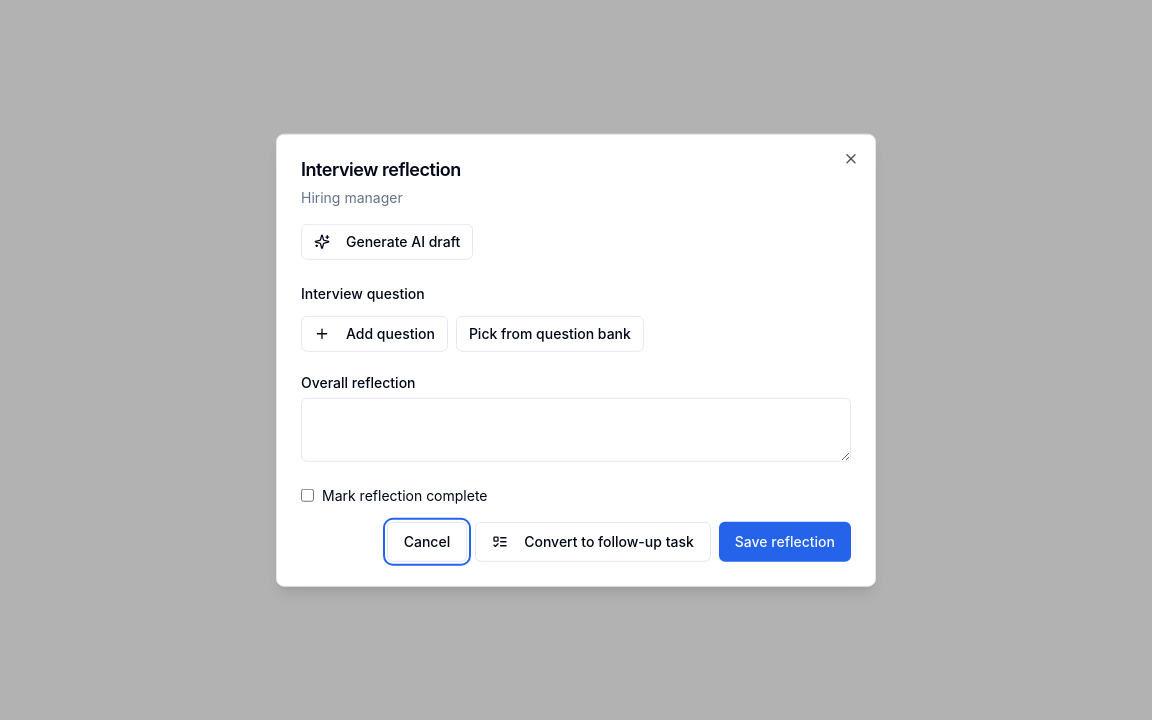
Scenario: InterviewReflectionDialog › shows the generation error honestly and retries
Click the button with test id "interview-reflection-ai-generate" at (387, 241), box [301, 223, 473, 259]
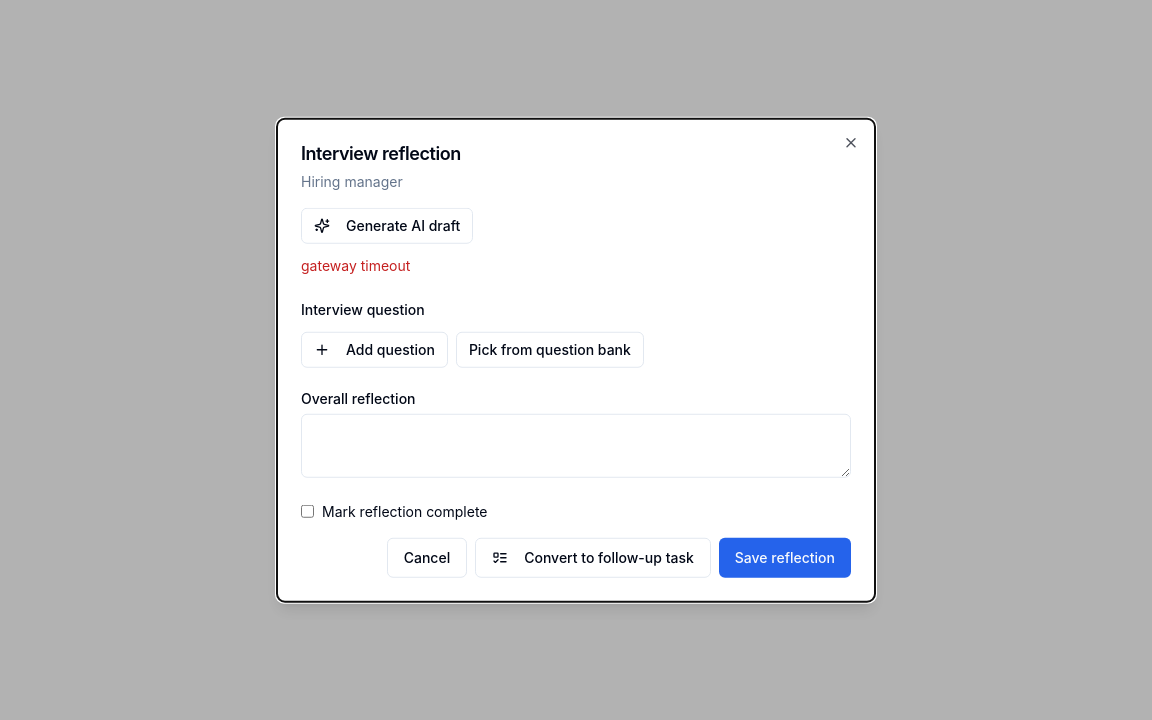
Expected: the text with test id "interview-reflection-ai-error" reads "gateway timeout", [301, 256, 410, 273]
Click the button with test id "interview-reflection-ai-generate" at (387, 225), box [301, 207, 473, 243]
(page scrolled)
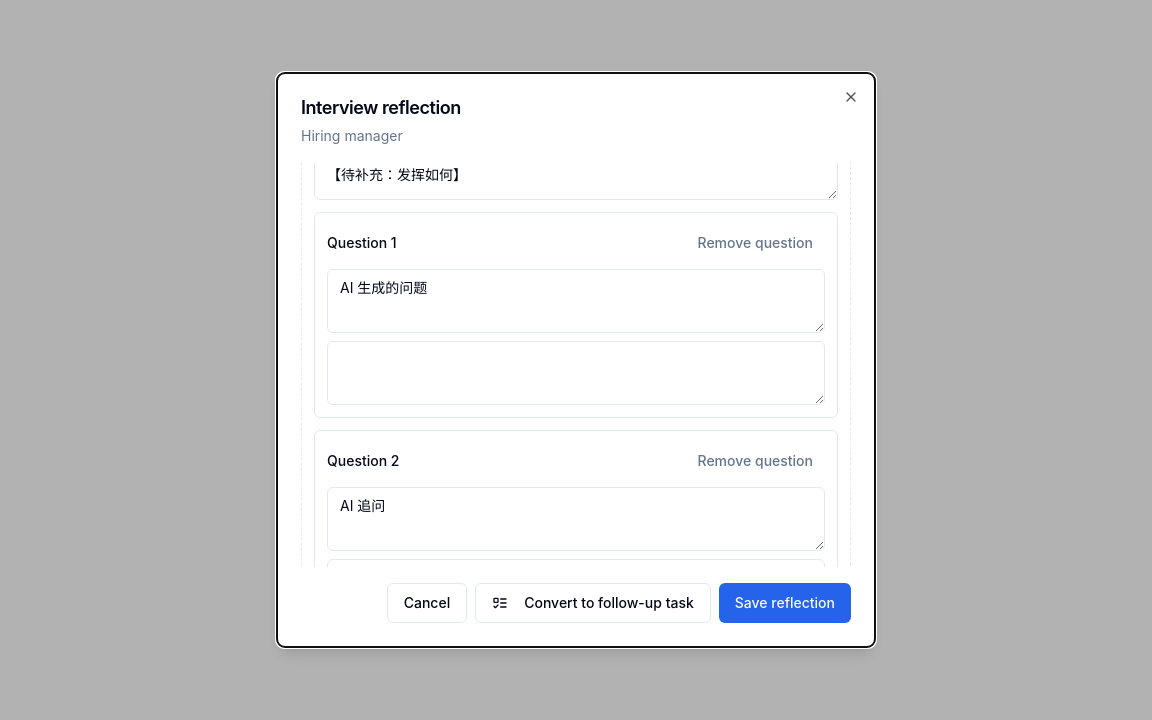
Expected: the element with test id "interview-reflection-draft" is shown, [301, 162, 851, 567]
Expected: the text with test id "interview-reflection-ai-error" is gone
